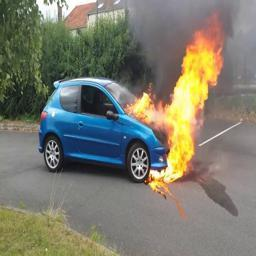fire: (127, 12, 225, 183)
